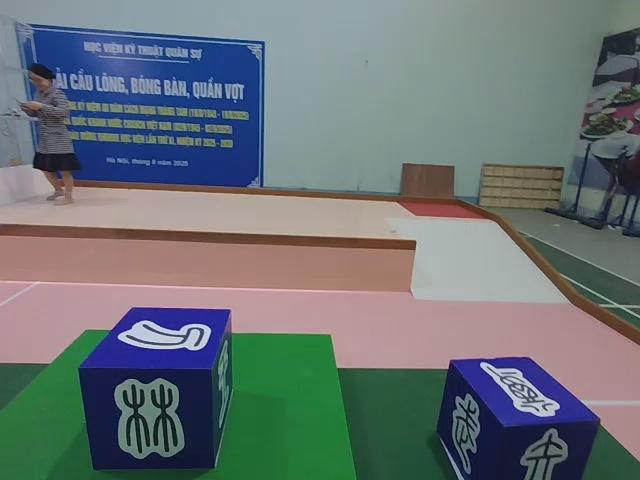R2 Fake Blue: (78, 302, 234, 473), (440, 358, 602, 480)
